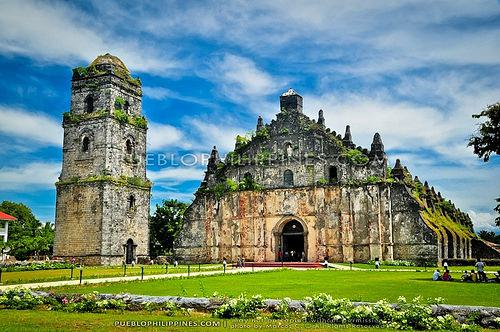Environmental Damage: (206, 178, 265, 198), (110, 174, 155, 192), (111, 110, 148, 129), (60, 109, 107, 122)
Paoay Church: (51, 51, 443, 271)
